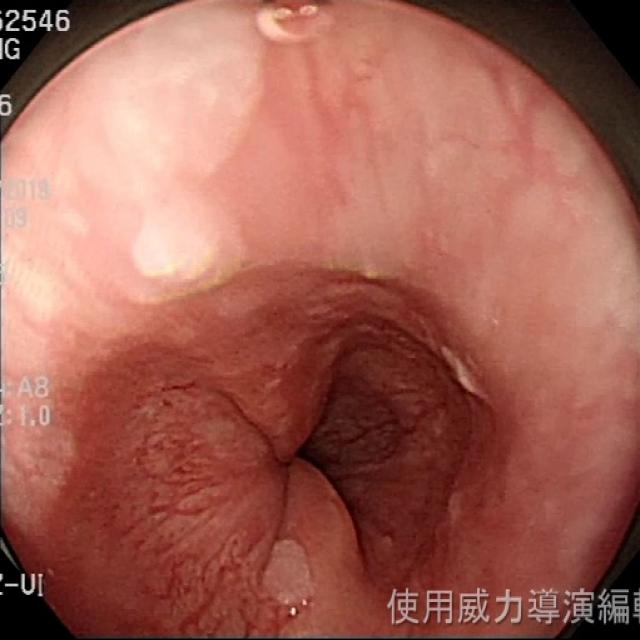I: (155, 294, 428, 576)
J: (264, 541, 315, 606), (438, 342, 488, 401)
S: (388, 588, 640, 629), (3, 8, 73, 35), (3, 375, 53, 402), (2, 179, 51, 204), (2, 403, 51, 428), (3, 572, 38, 599), (2, 204, 29, 231), (3, 36, 23, 63), (2, 95, 14, 118)
